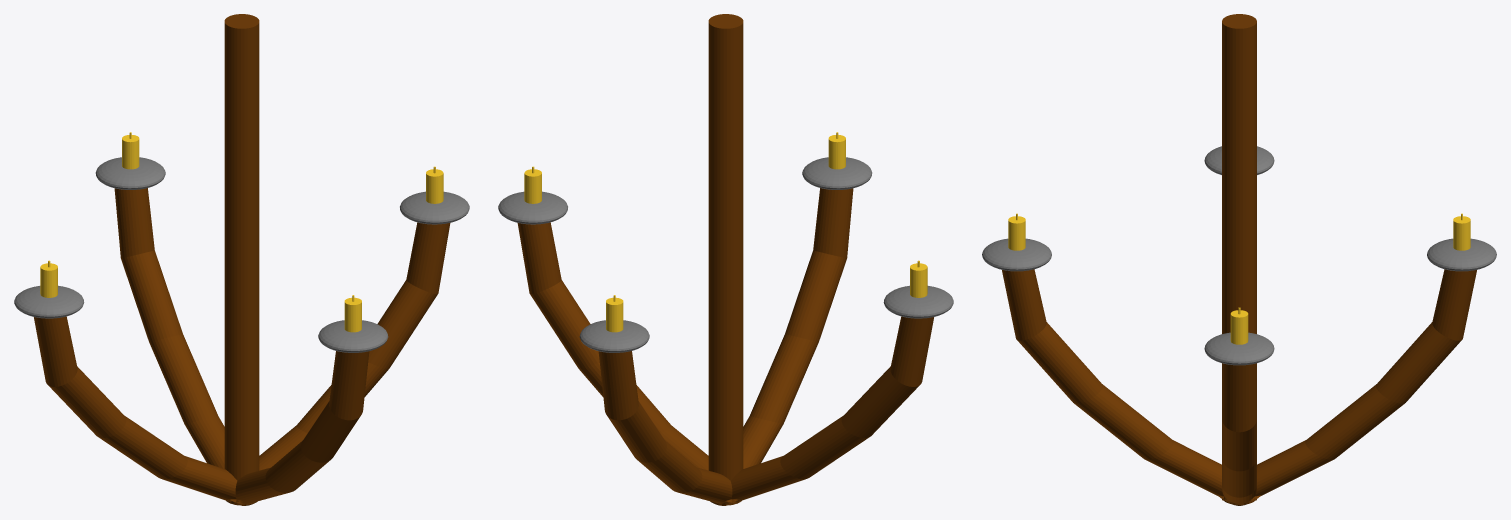
The model's file is PlafondKandelaar.fbx.
The picture shows the model from 3 angles, left to right: view 1: azimuth 30°, elevation 25°; view 2: azimuth 150°, elevation 25°; view 3: azimuth 270°, elevation 25°; orthographic projection.
Visible parts, largest first — view 1: Kaarsen; view 2: Kaarsen; view 3: Kaarsen.
Boxes of the visible parts, x1,y1,x2,y2 form: Kaarsen: (14,14,469,505); Kaarsen: (498,14,953,505); Kaarsen: (982,14,1496,505).
Bounding box in the file's own units: 294 × 303 × 294.
